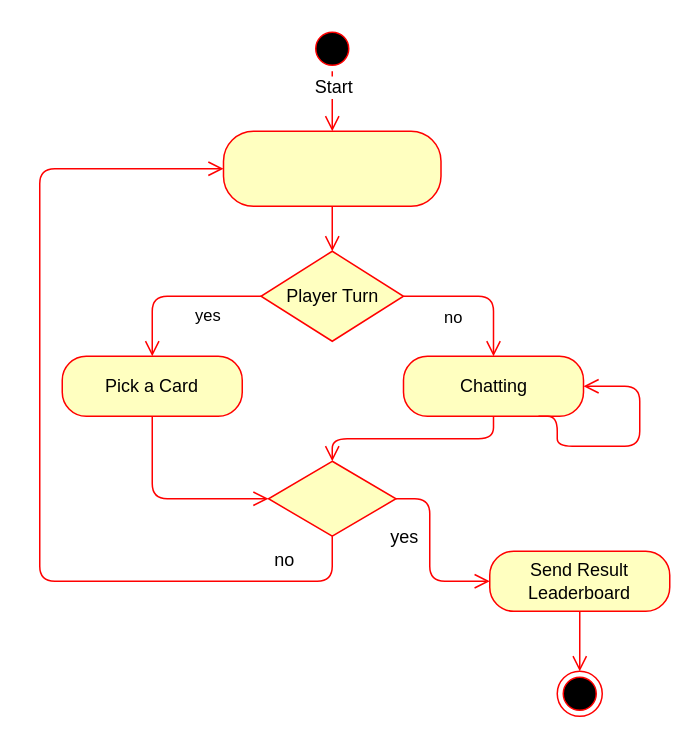
This 696x743 diagram has some shape labels left out. The shapes that lost their labels are listed below. From the top down, each one's centre as x and y in pixels, then its label:
[331,168]: Initialize Game, Delete Old, Send New
[331,498]: Card Empty
